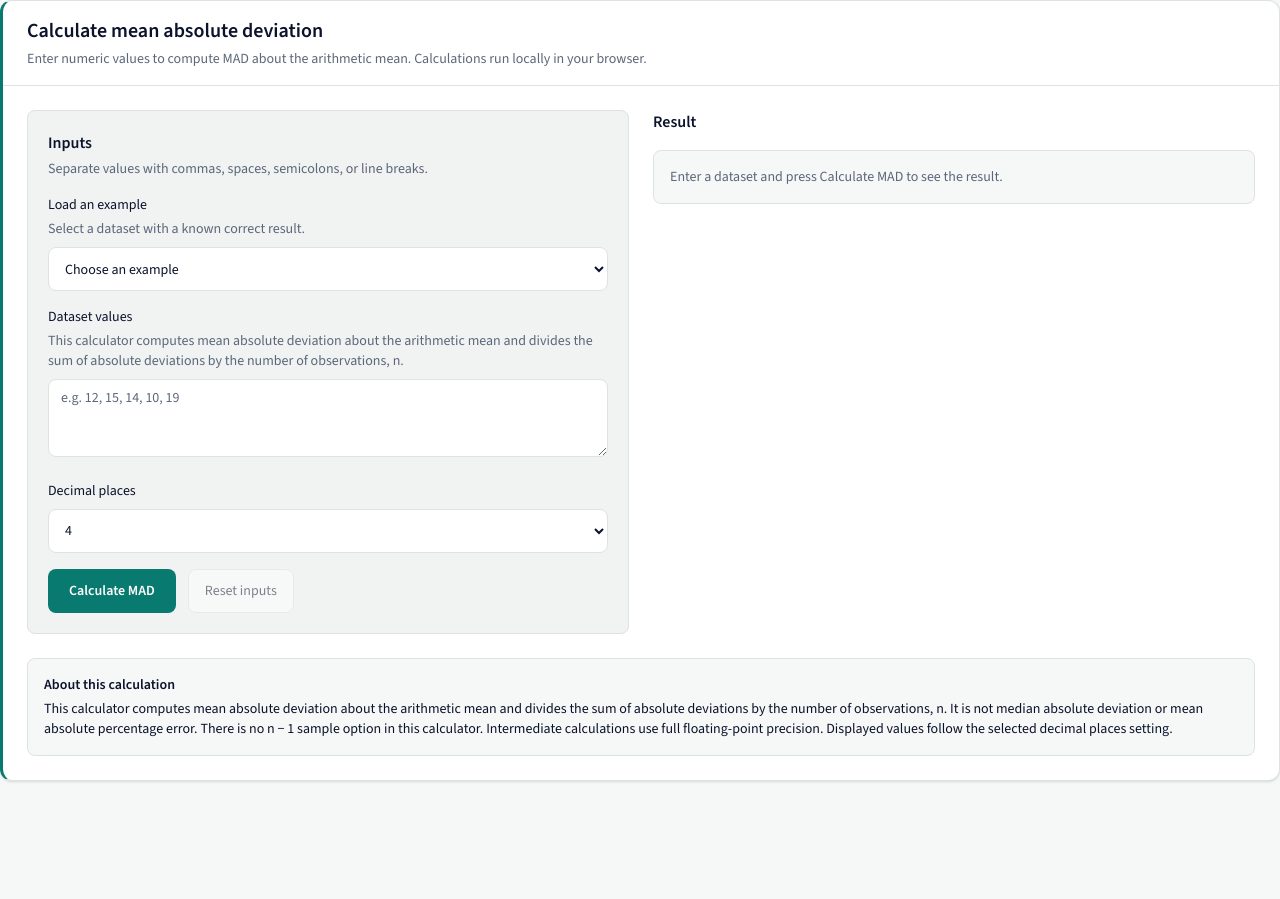
MAD Calculator Page V2 regression › returns MAD 2.4 for the approved fixture
Type "12, 15, 14, 10, 19" into the text box labelled "Dataset values" at coordinates (328, 418), box x1=48 y1=379 x2=608 y2=457
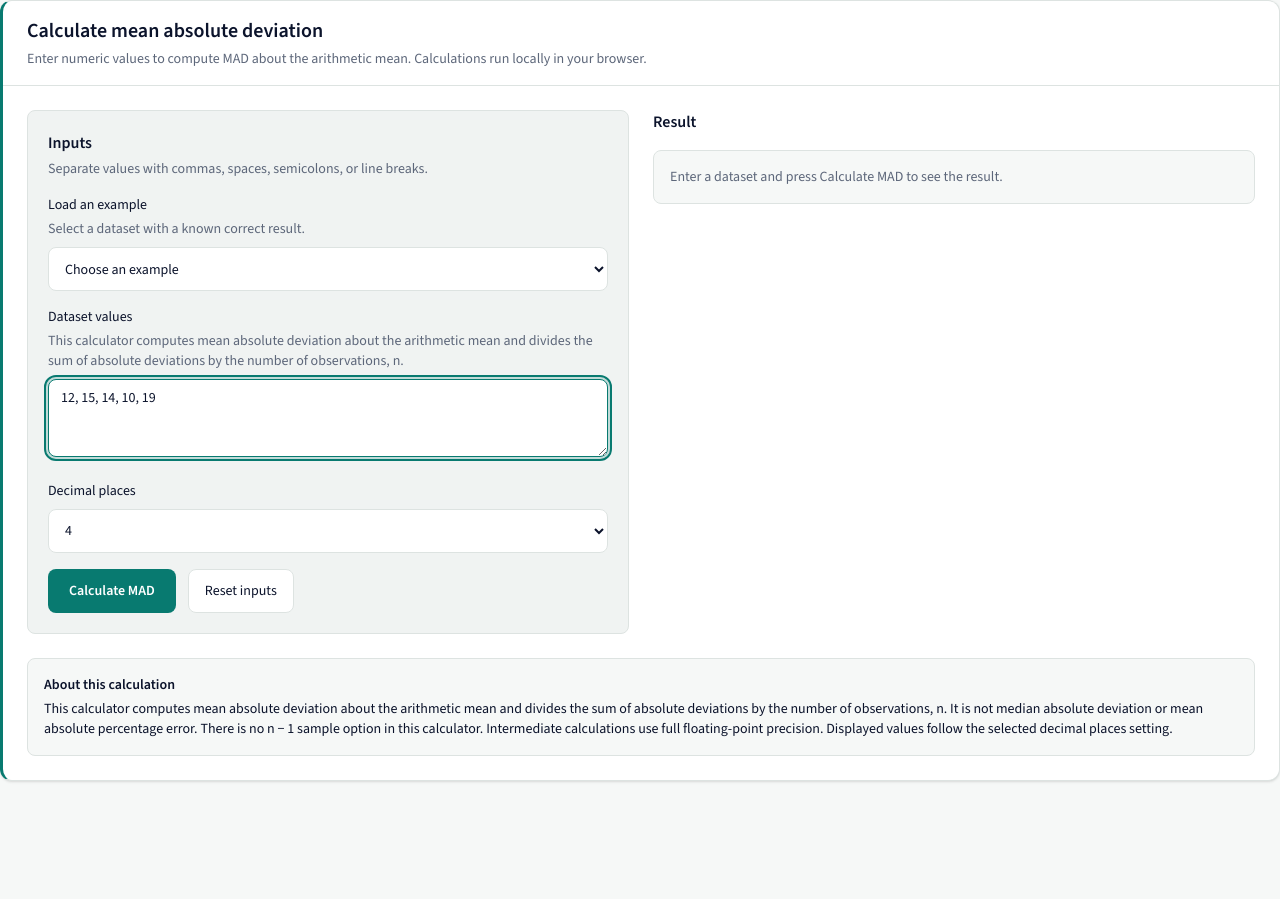
Click the button "Calculate MAD" at coordinates (112, 591), box x1=48 y1=569 x2=176 y2=613
(page scrolled)
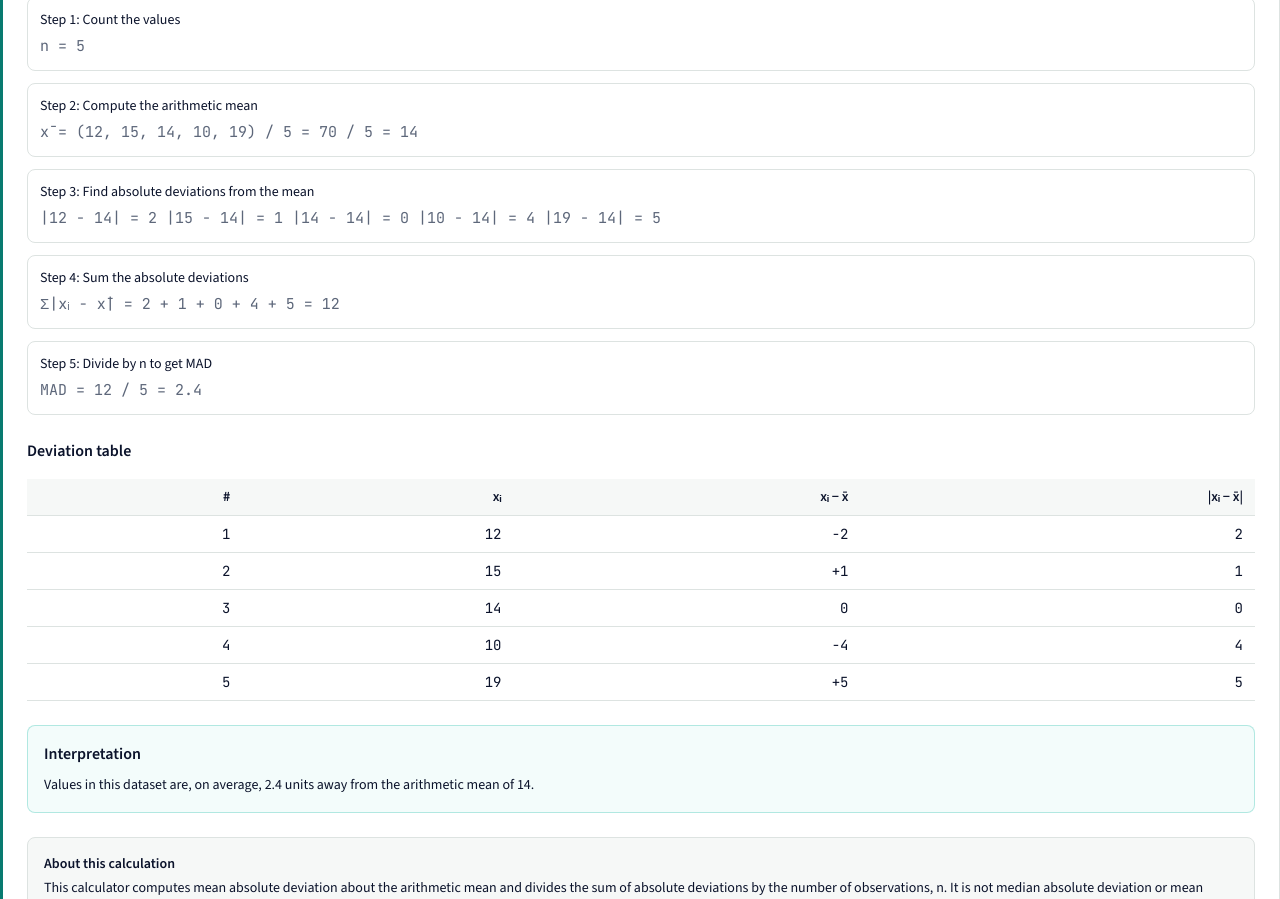
Check: the heading "Deviation table" is shown, box x1=27 y1=440 x2=131 y2=461
